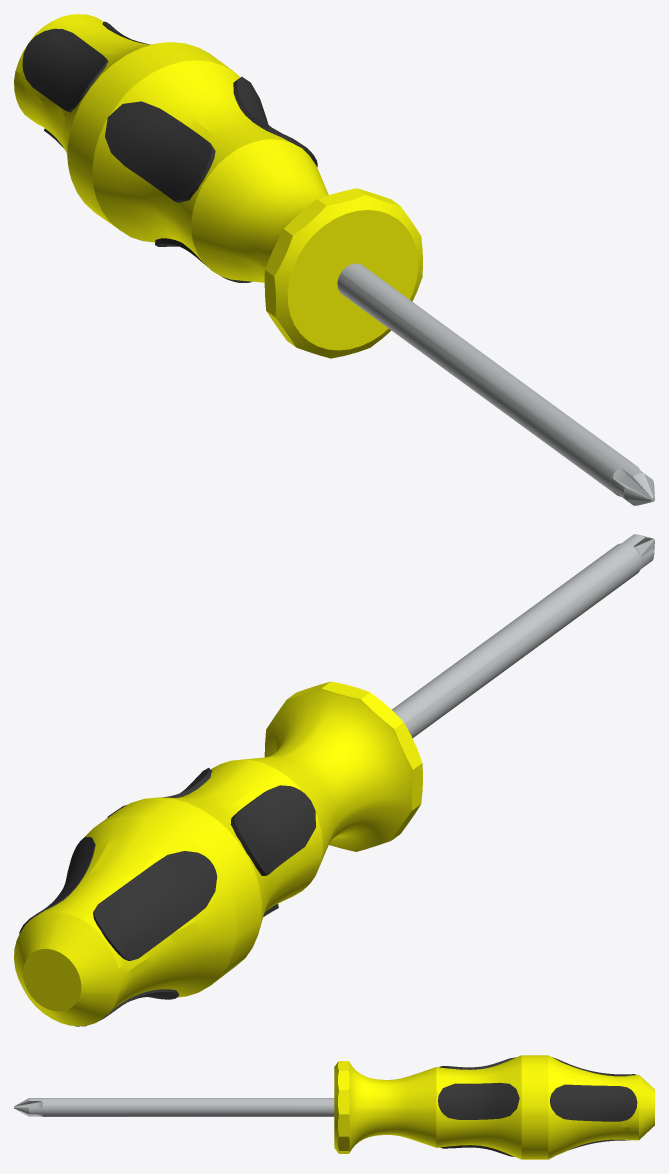
Rendered from 01-Cross_Screwdriver.fbx.
3 renders of one model, top to bottom at view 1: azimuth 30°, elevation 25°; view 2: azimuth 150°, elevation 25°; view 3: azimuth 270°, elevation 25°, orthographic. The views are drawn at different scales.
Visible parts, largest first — view 1: Cross_Screwdriver; view 2: Cross_Screwdriver; view 3: Cross_Screwdriver.
Part boxes in pixels (x1=…): Cross_Screwdriver: x1=14, y1=14, x2=654, y2=505; Cross_Screwdriver: x1=14, y1=534, x2=654, y2=1026; Cross_Screwdriver: x1=14, y1=1055, x2=654, y2=1159.
Size of the model in its own units: 6.42 by 6.52 by 39.43.
Materials: 1 (1 with a texture image).
